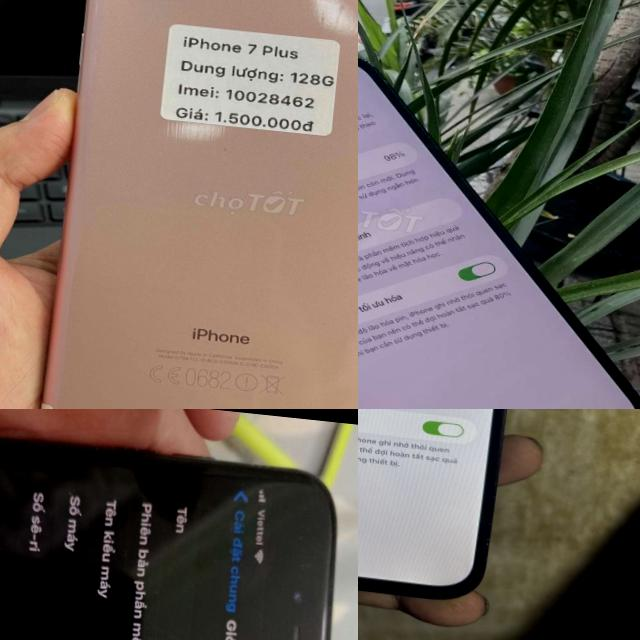gen_12_13: (358, 409, 533, 617)
gen_14: (358, 27, 640, 409)
gen_7_8: (41, 0, 358, 409), (0, 409, 356, 640)
